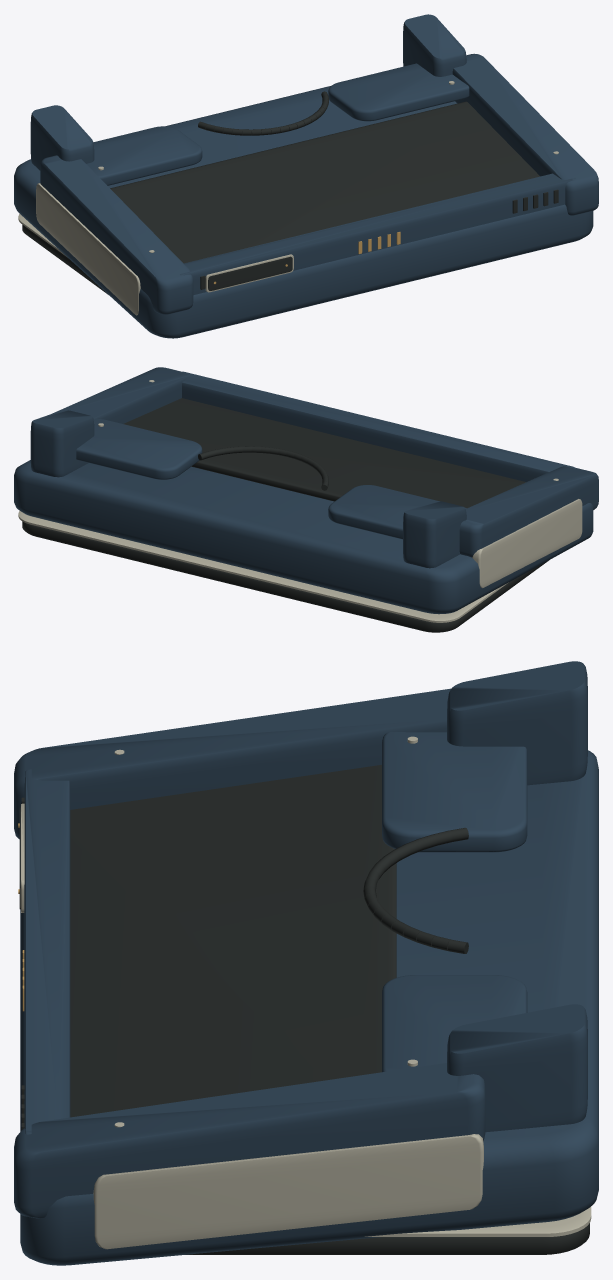
File: Courier.glb
The picture shows the model from 3 angles, top to bottom: view 1: azimuth 30°, elevation 25°; view 2: azimuth 150°, elevation 25°; view 3: azimuth 270°, elevation 25°; orthographic projection. The views are drawn at different scales.
Visible parts, largest first — view 1: Keyboard well, Cast chassis, Enamel cheek (×2), Front fascia, Spool platform (×2), Carriage bearing (×2), Coachwork flange, Maker plate, Rolled lower pan, Badge surround; view 2: Cast chassis, Keyboard well, Front fascia, Enamel cheek (×2), Spool platform (×2), Carriage bearing (×2), Rolled lower pan, Coachwork flange, Chassis parting seam; view 3: Keyboard well, Enamel cheek (×2), Cast chassis, Coachwork flange, Carriage bearing (×2), Spool platform (×2), Front fascia, Rolled lower pan, Chassis parting seam.
Boxes of the visible parts, x1,y1,x2,y2 form: Keyboard well: (110,101,539,263); Cast chassis: (14,86,593,338); Enamel cheek (×2): (40,53,598,314); Front fascia: (180,173,575,295); Spool platform (×2): (86,63,469,185); Carriage bearing (×2): (30,14,466,170); Coachwork flange: (36,183,140,315); Maker plate: (208,256,292,290); Rolled lower pan: (22,224,108,294); Badge surround: (205,254,293,292); Cast chassis: (14,460,593,614); Keyboard well: (124,398,525,508); Front fascia: (180,371,575,481); Enamel cheek (×2): (53,367,598,557); Spool platform (×2): (76,418,466,539); Carriage bearing (×2): (30,410,466,568); Rolled lower pan: (22,521,548,632); Coachwork flange: (472,499,582,587); Chassis parting seam: (18,511,508,622); Keyboard well: (70,765,396,1117); Enamel cheek (×2): (14,688,485,1218); Cast chassis: (20,750,598,1265); Coachwork flange: (93,1134,483,1249); Carriage bearing (×2): (447,661,587,1132); Spool platform (×2): (382,732,527,1072); Front fascia: (24,769,70,1134); Rolled lower pan: (186,1223,589,1254); Chassis parting seam: (365,1206,591,1236).
Bounding box in the file's own units: 6.95 × 1.81 × 4.2.
